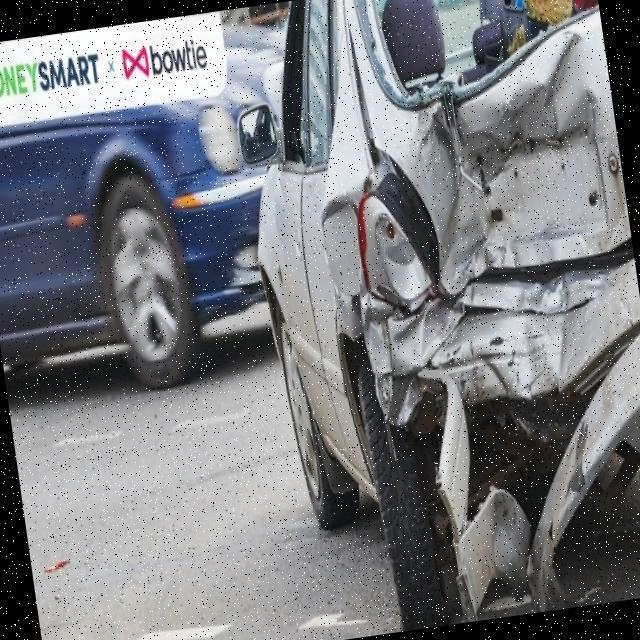accident: (282, 0, 640, 635)
